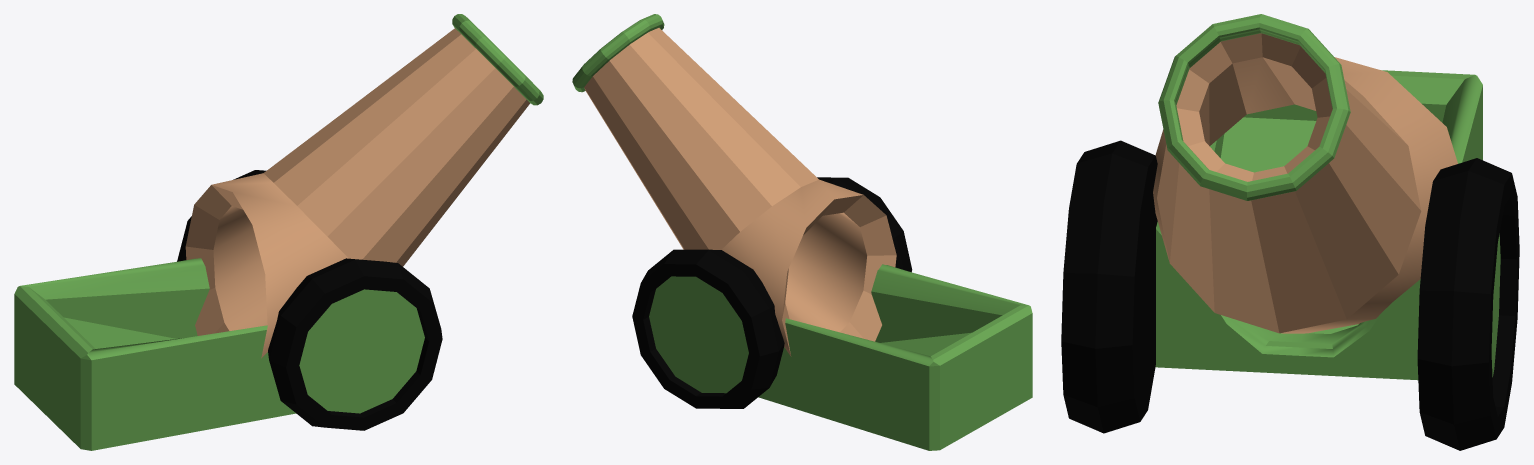
Rendered from ToyObject_079.fbx.
3 views of the same model, side by side, from view 1: azimuth 30°, elevation 25°; view 2: azimuth 150°, elevation 25°; view 3: azimuth 270°, elevation 25° (orthographic). The views are drawn at different scales.
Visible parts, largest first — view 1: object-1.036; view 2: object-1.036; view 3: object-1.036.
Part boxes in pixels (bbox=[...]): object-1.036: bbox=[14, 14, 543, 450]; object-1.036: bbox=[572, 14, 1032, 450]; object-1.036: bbox=[1061, 14, 1519, 450].
Size of the model in its own units: 0.2314 by 0.1589 by 0.1253.
